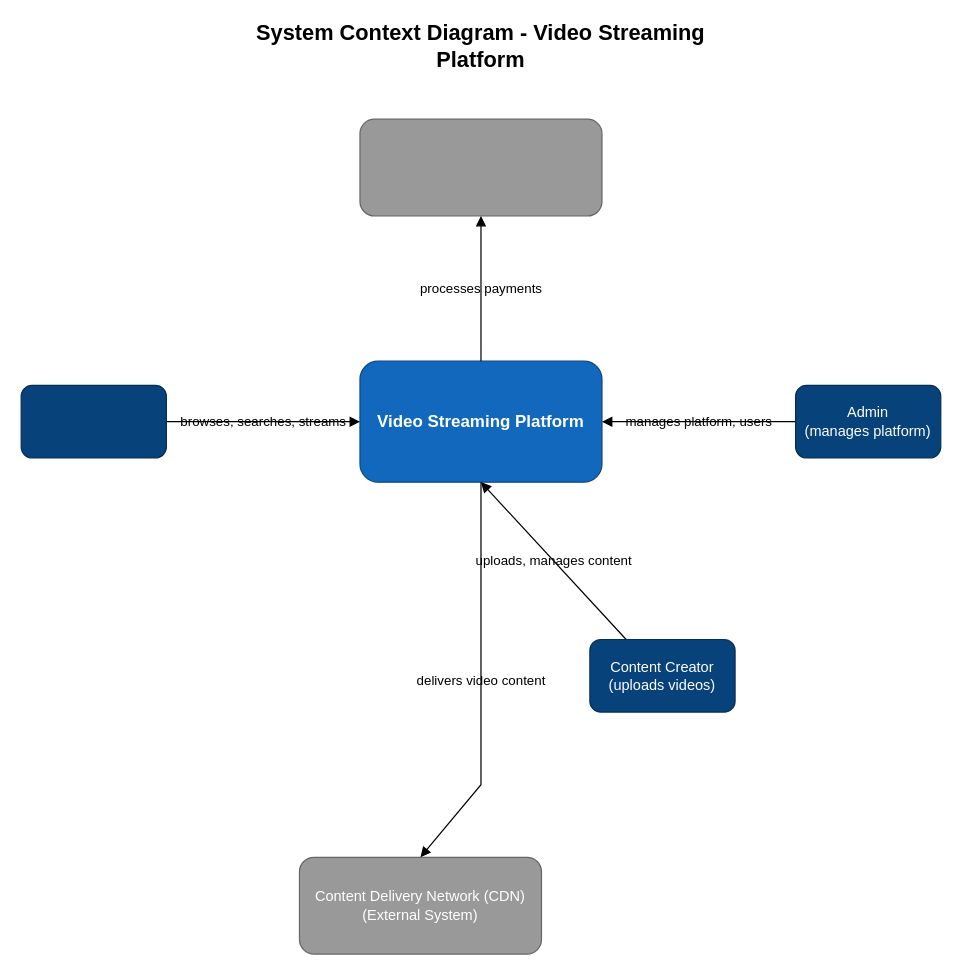
The diagram is 962 pixels wide and 975 high, and some of its shapes have lost their labels. Here are the shapes that lost their labels. From the top down, the centre of each, then its label:
At point 480,167: "Payment Gateway (External System)".
At point 93,421: "Subscriber (watches videos)".
